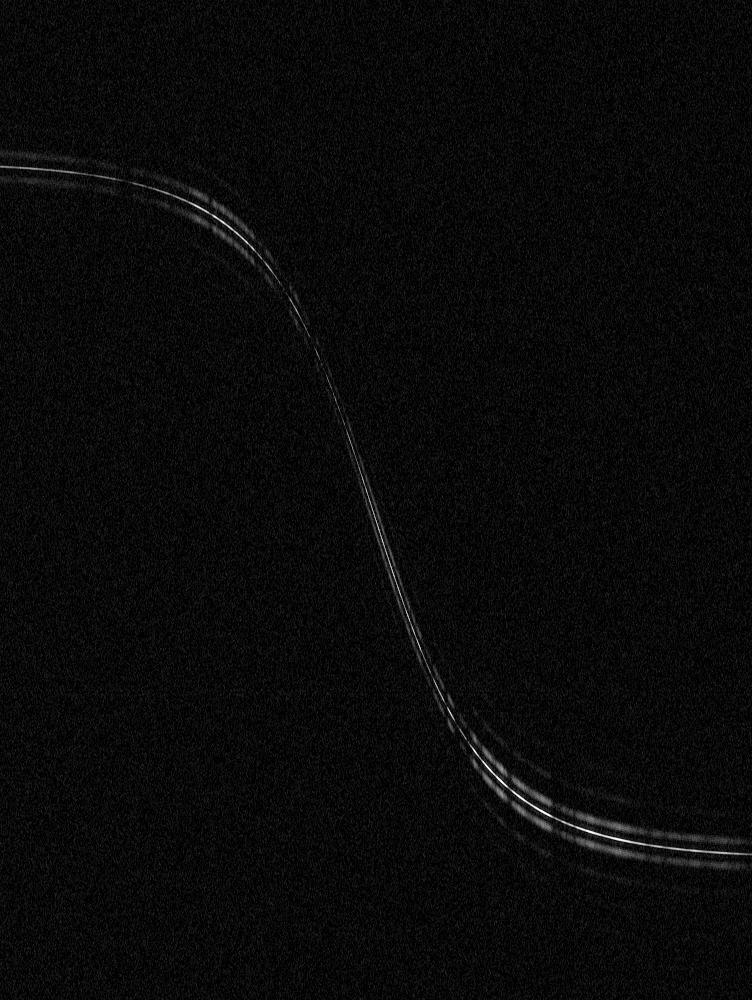signal: (0, 0, 751, 999)
